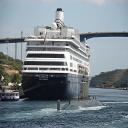submarine: (58, 68, 104, 113)
